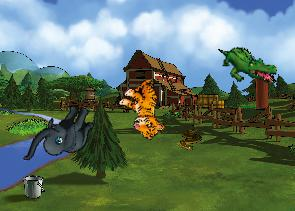crocodile: (217, 46, 278, 84)
elephant: (22, 93, 98, 177)
tiger: (111, 73, 180, 143)
